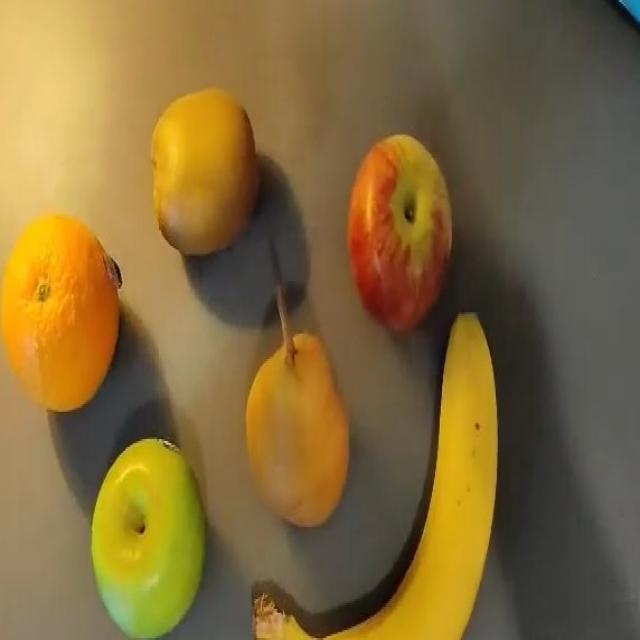Apple: (343, 130, 458, 332), (94, 438, 208, 639)
Banana: (279, 309, 502, 640)
Orange: (0, 209, 124, 416)
